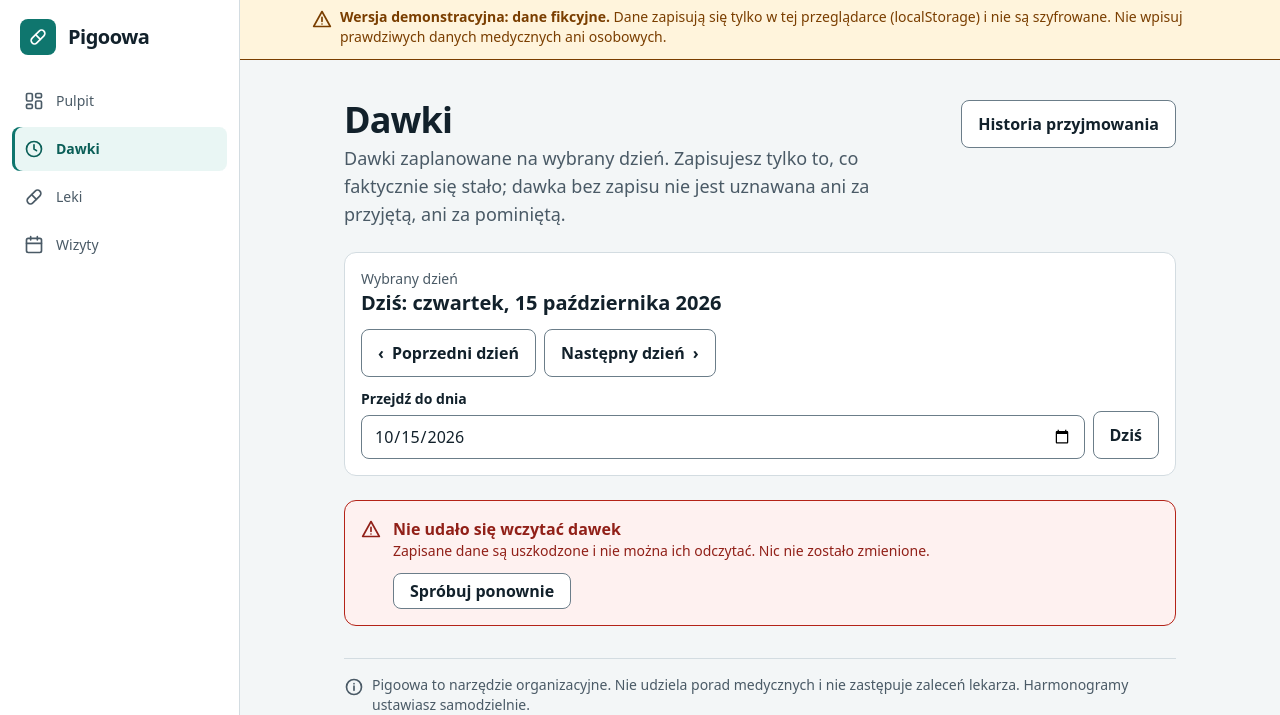
it: day view: states › shows a loading failure as an error with a retry that works, never as an empty day
Expected: the message shows "Nie udało się wczytać dawek", [393, 518, 621, 540]
Expected: the message shows "Zapisane dane są uszkodzone", [393, 541, 930, 560]
Click the button "Spróbuj ponownie".
click(482, 591)  # box [393, 573, 571, 609]
(page scrolled)
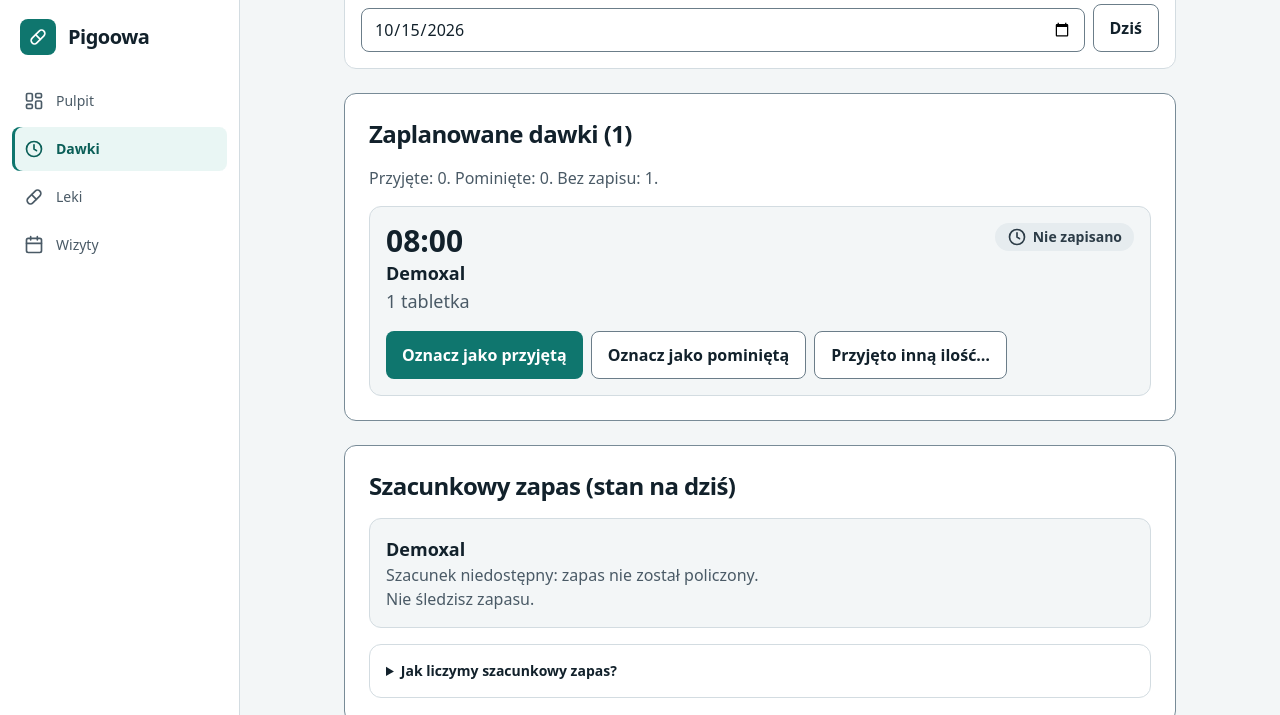
Now the message is gone
